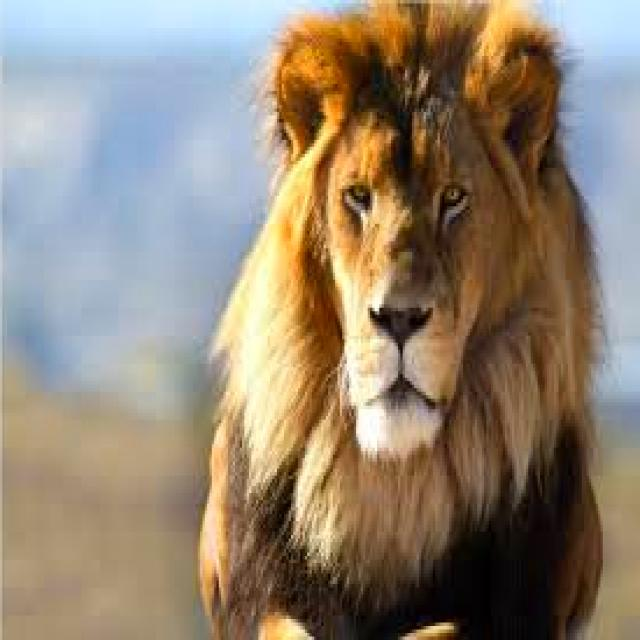lion: (200, 0, 603, 637)
